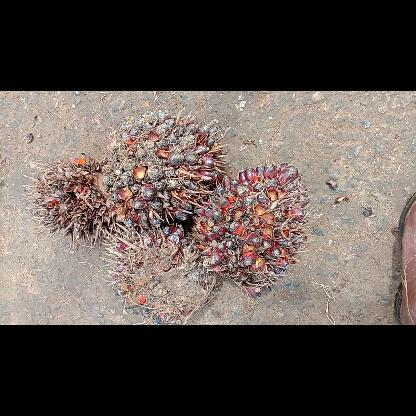TBS abnormal: (192, 162, 310, 298), (102, 108, 226, 230), (102, 224, 220, 324), (23, 156, 111, 252)
